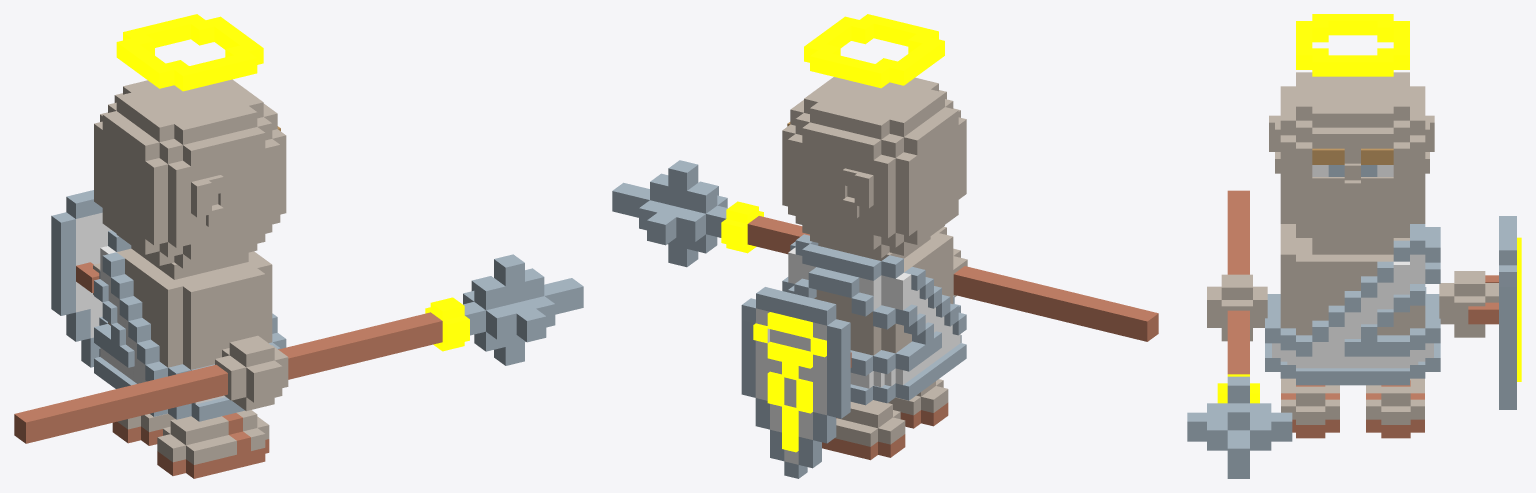
The model's file is Melee Angel.fbx.
The picture shows the model from 3 angles, left to right: view 1: azimuth 30°, elevation 25°; view 2: azimuth 150°, elevation 25°; view 3: azimuth 270°, elevation 25°; orthographic projection. The views are drawn at different scales.
Visible parts, largest first — view 1: Head, Spear, Torso, Cube.001, Cube, FootRight, HandRight, FootLeft; view 2: Head, Torso, Spear, Cube.001, Cube, FootLeft, FootRight; view 3: Head, Torso, Spear, Cube, Cube.001, FootLeft, FootRight, HandLeft, HandRight.
Part boxes in pixels (bbox=[...]): Head: bbox=[94, 79, 286, 268]; Spear: bbox=[14, 254, 583, 443]; Torso: bbox=[94, 230, 286, 421]; Cube.001: bbox=[51, 190, 111, 367]; Cube: bbox=[116, 14, 263, 91]; FootRight: bbox=[157, 410, 269, 478]; HandRight: bbox=[215, 335, 288, 410]; FootLeft: bbox=[112, 413, 174, 445]; Head: bbox=[782, 77, 966, 258]; Torso: bbox=[782, 226, 966, 405]; Spear: bbox=[612, 160, 1158, 341]; Cube.001: bbox=[741, 287, 851, 478]; Cube: bbox=[804, 14, 944, 88]; FootLeft: bbox=[822, 400, 905, 460]; FootRight: bbox=[888, 379, 948, 428]; Head: bbox=[1269, 72, 1434, 244]; Torso: bbox=[1265, 224, 1440, 385]; Spear: bbox=[1187, 190, 1292, 478]; Cube: bbox=[1296, 14, 1409, 76]; Cube.001: bbox=[1468, 216, 1521, 409]; FootLeft: bbox=[1366, 378, 1424, 438]; FootRight: bbox=[1281, 378, 1339, 438]; HandLeft: bbox=[1439, 271, 1498, 337]; HandRight: bbox=[1207, 274, 1267, 341].
Bounding box in the file's own units: 1072 × 730 × 587.
